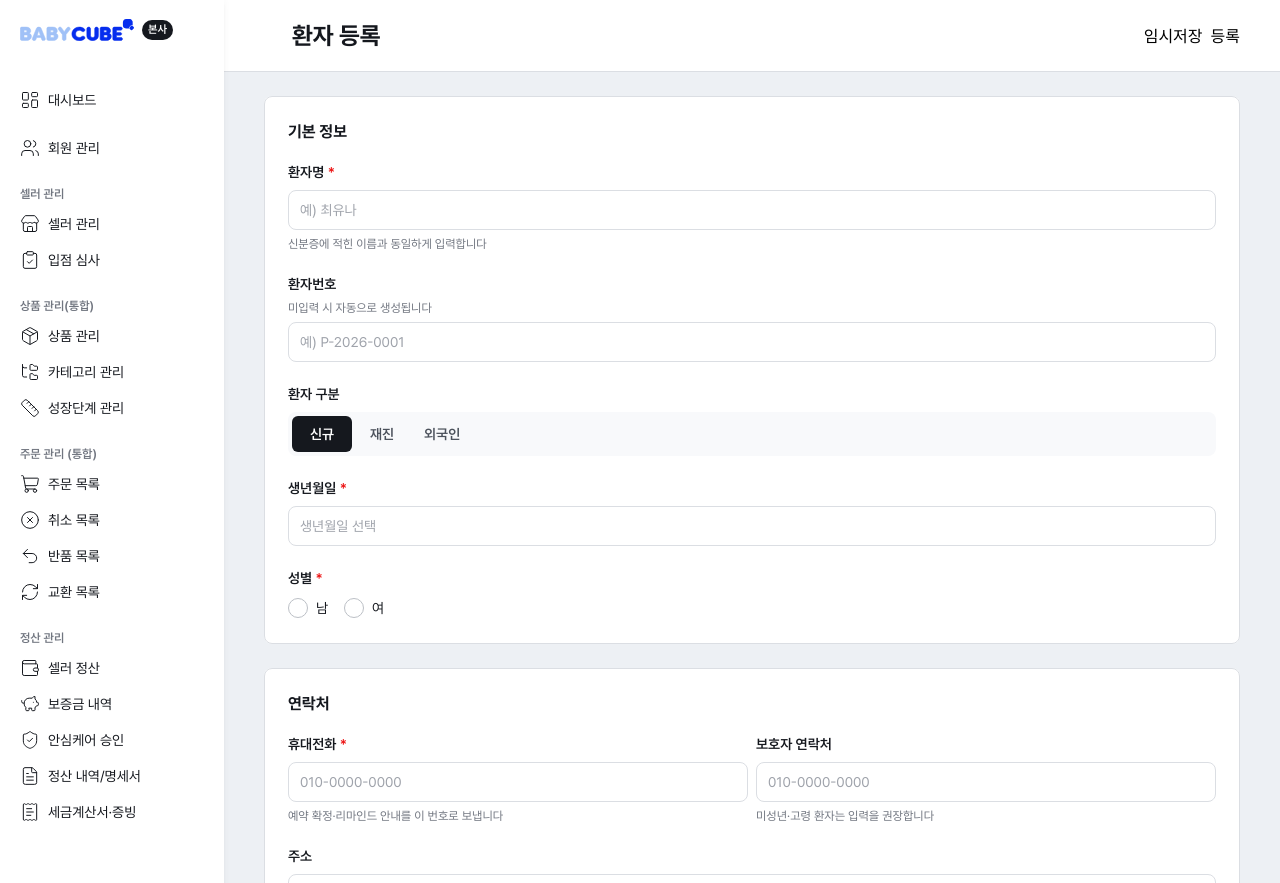
Test: PatientFormPage › 필수 검증 › 환자명을 채워 넣으면 에러가 사라지고 도움말이 돌아온다
Click the field labelled "환자명": (752, 210) [300,198,1204,222]
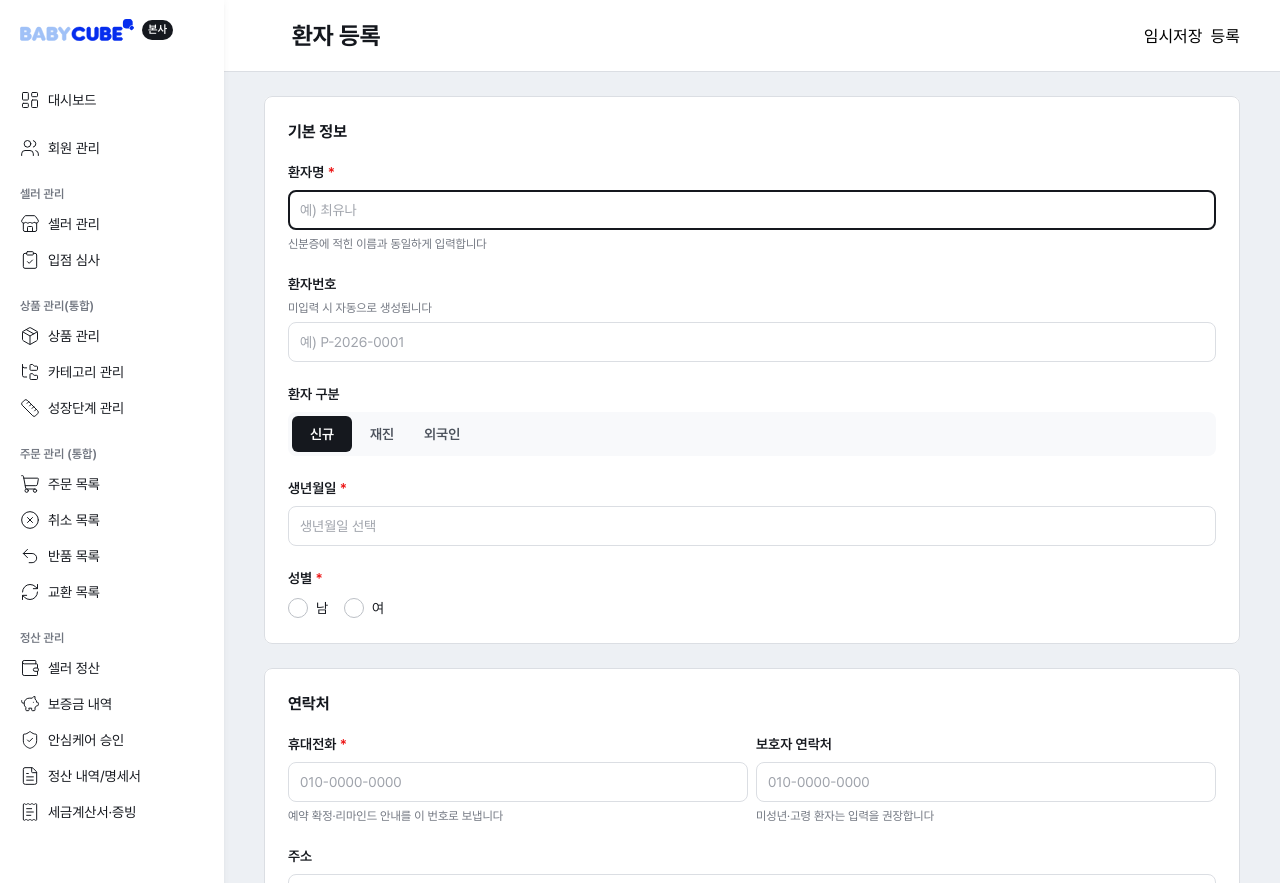
Press Tab
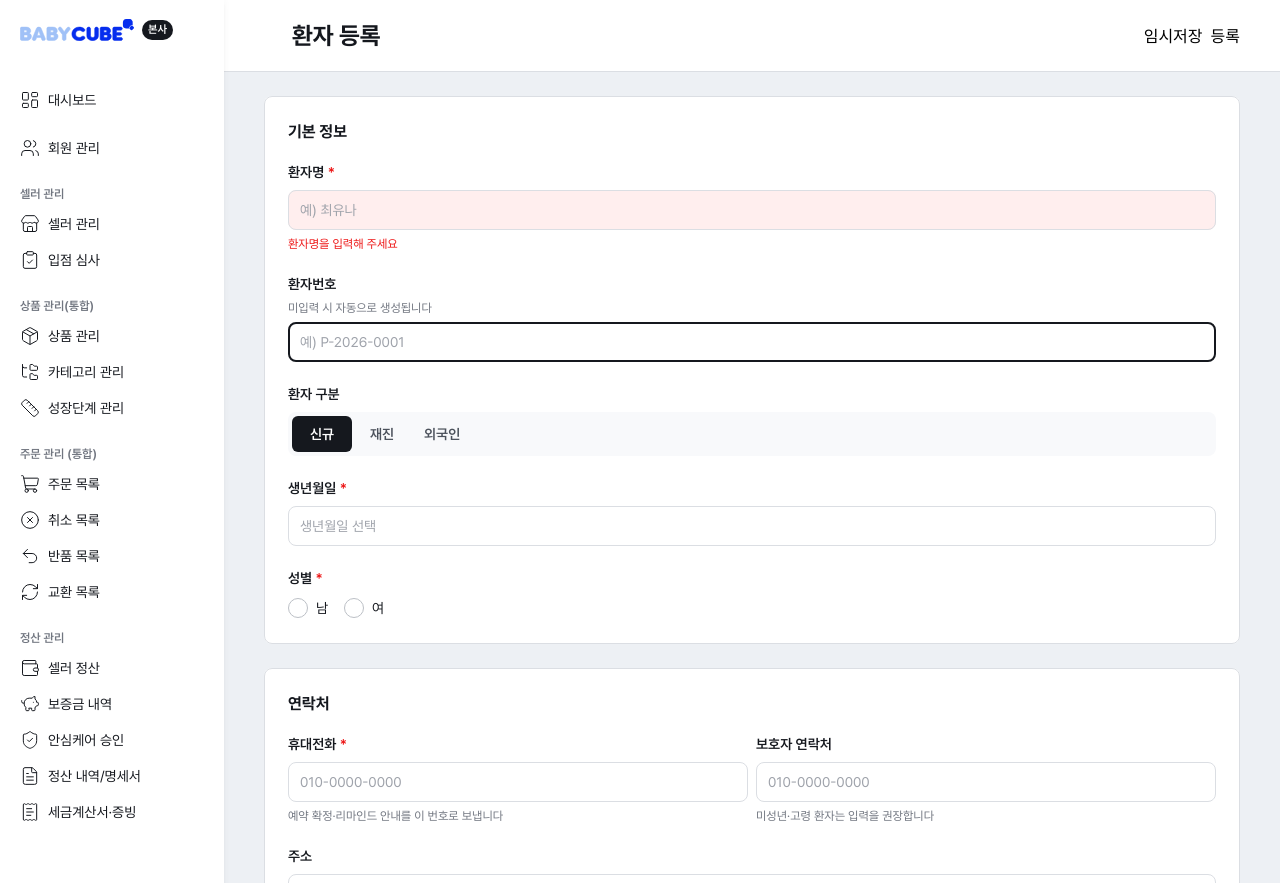
Result: the message "환자명을 입력해 주세요" is shown at [288,237,398,251]
In the field labelled "환자명": (752, 210) [300,198,1204,222], type "최유나"
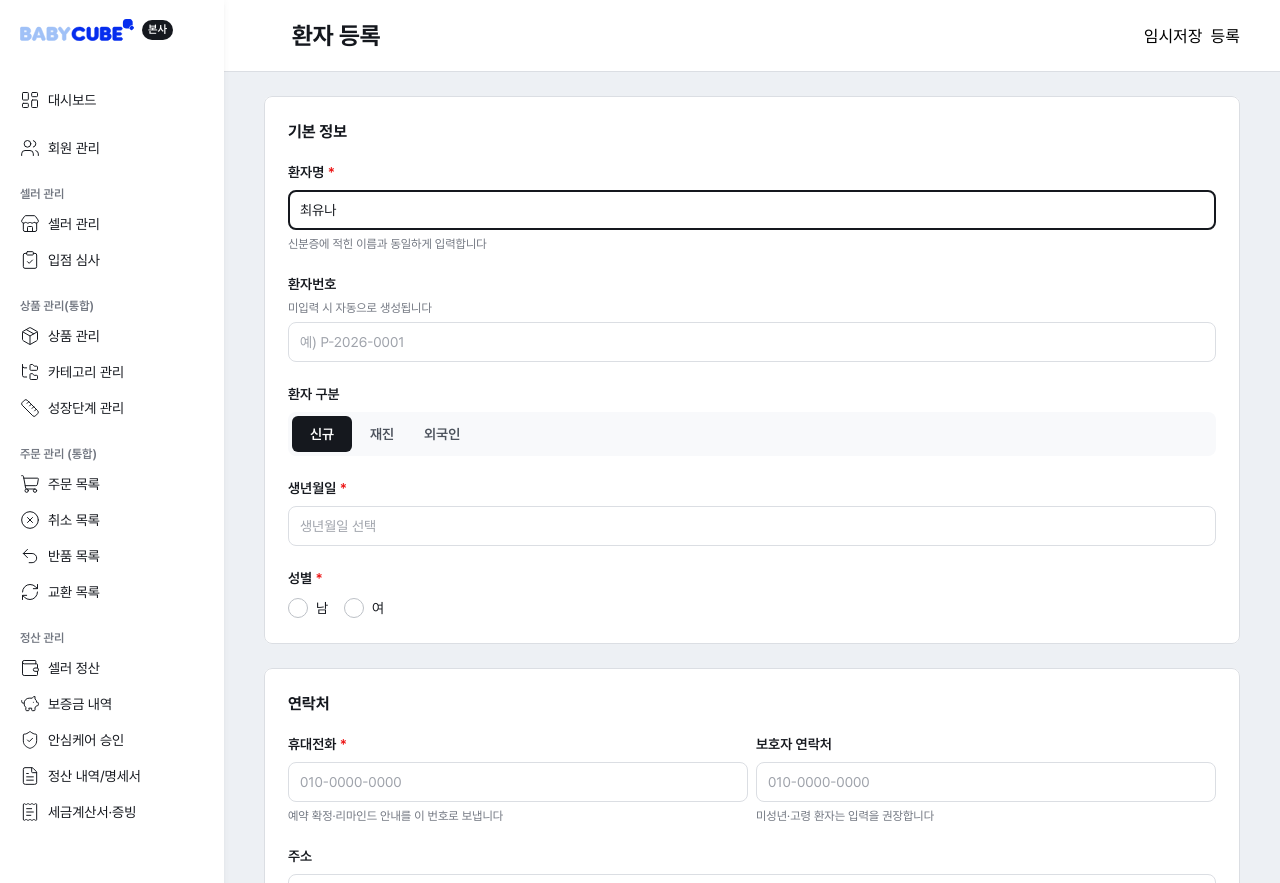
Result: the text "신분증에 적힌 이름과 동일하게 입력합니다" is shown at [288,237,487,251]
